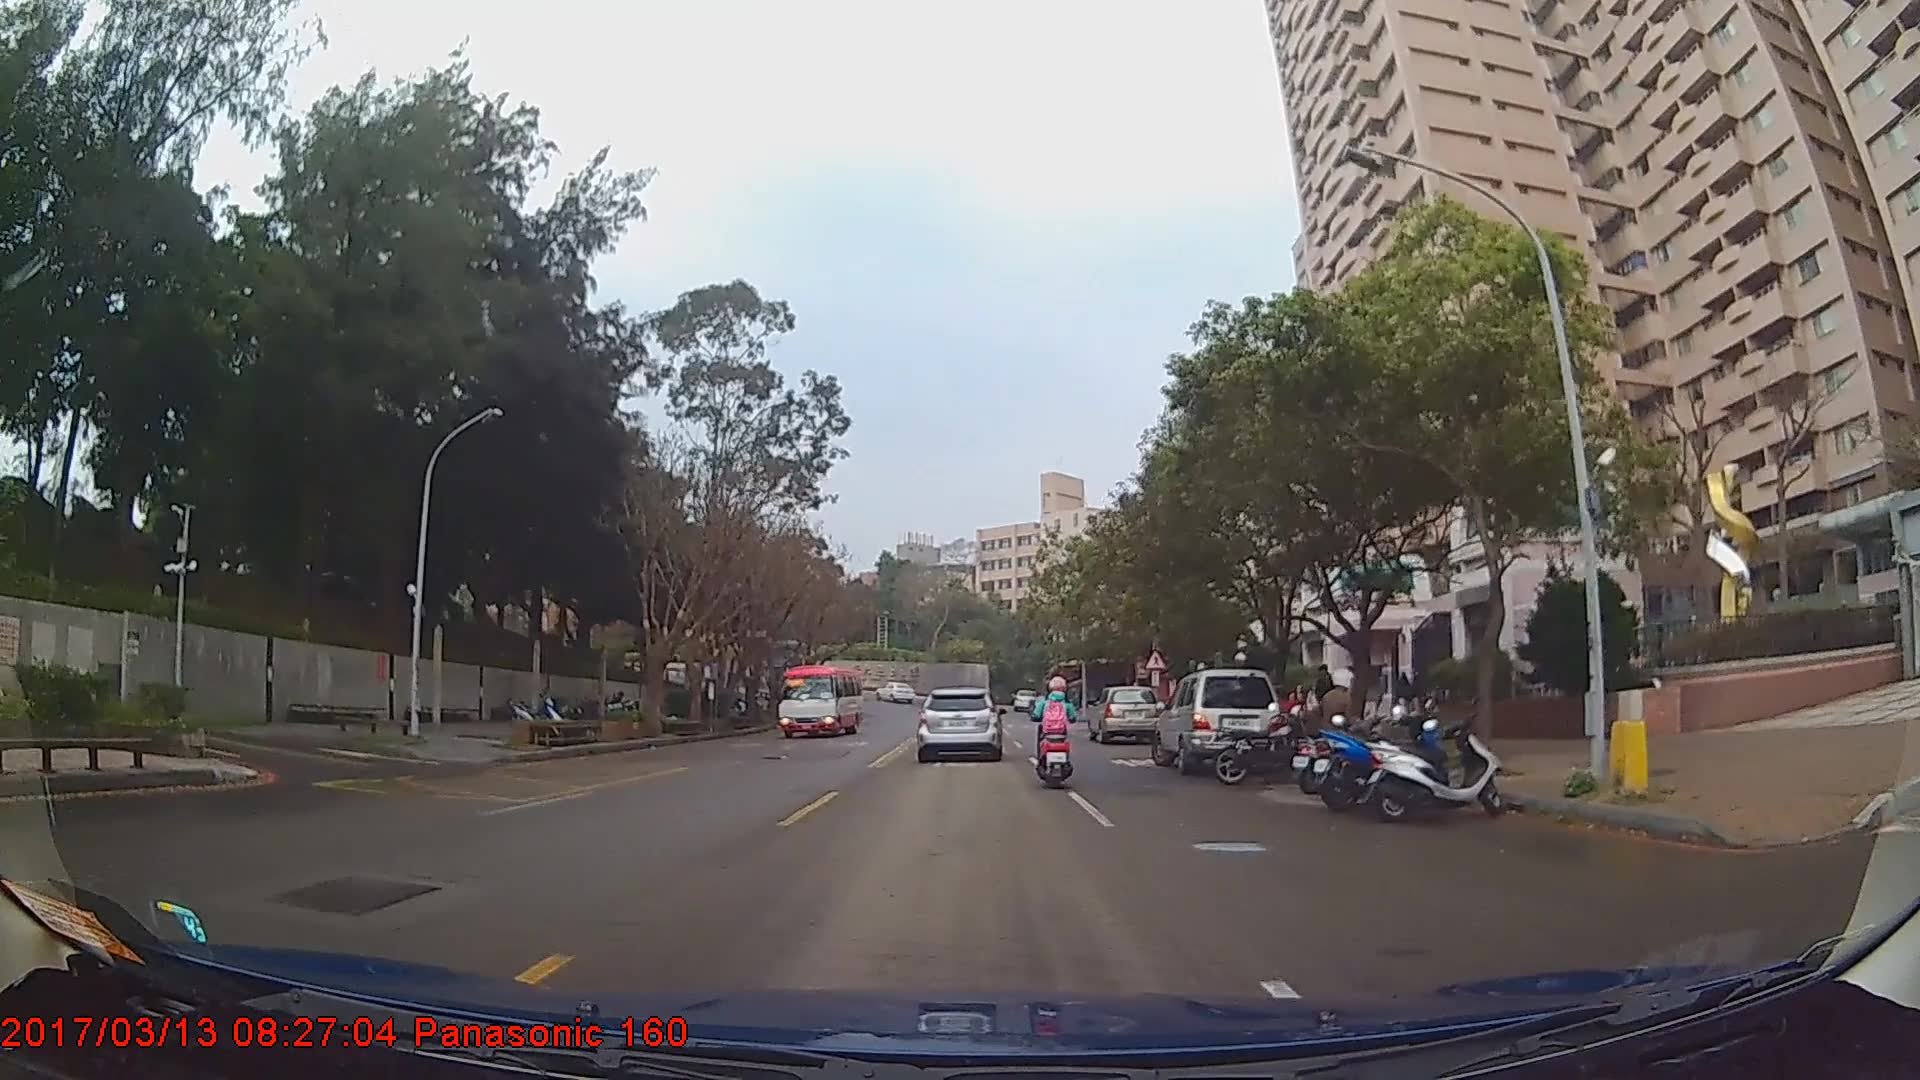pedestrian: (1313, 664, 1337, 733)
rider: (1303, 666, 1370, 787), (1033, 670, 1086, 796)
vehicle: (1151, 669, 1282, 775), (915, 685, 1002, 762), (776, 662, 864, 738), (1087, 683, 1160, 741), (872, 679, 919, 704)
